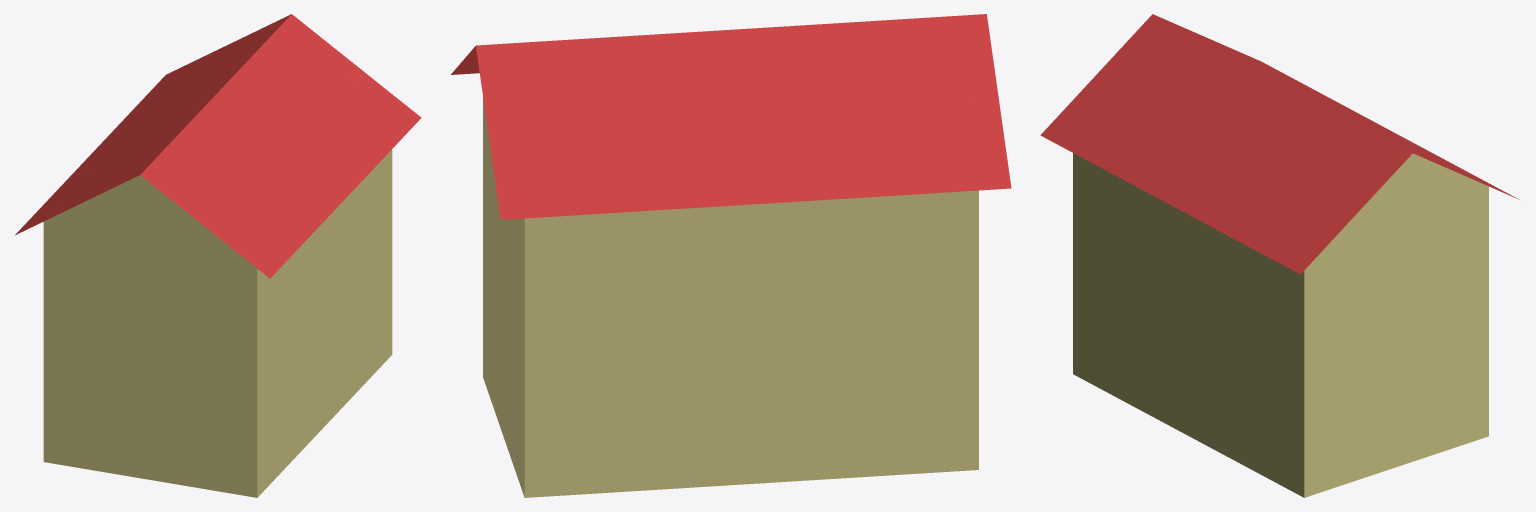
3 views of the same model, side by side, from view 1: azimuth 30°, elevation 25°; view 2: azimuth 150°, elevation 25°; view 3: azimuth 270°, elevation 25° (orthographic). The views are drawn at different scales.
Size of the model in its own units: 16.28 by 15.54 by 11.44.
